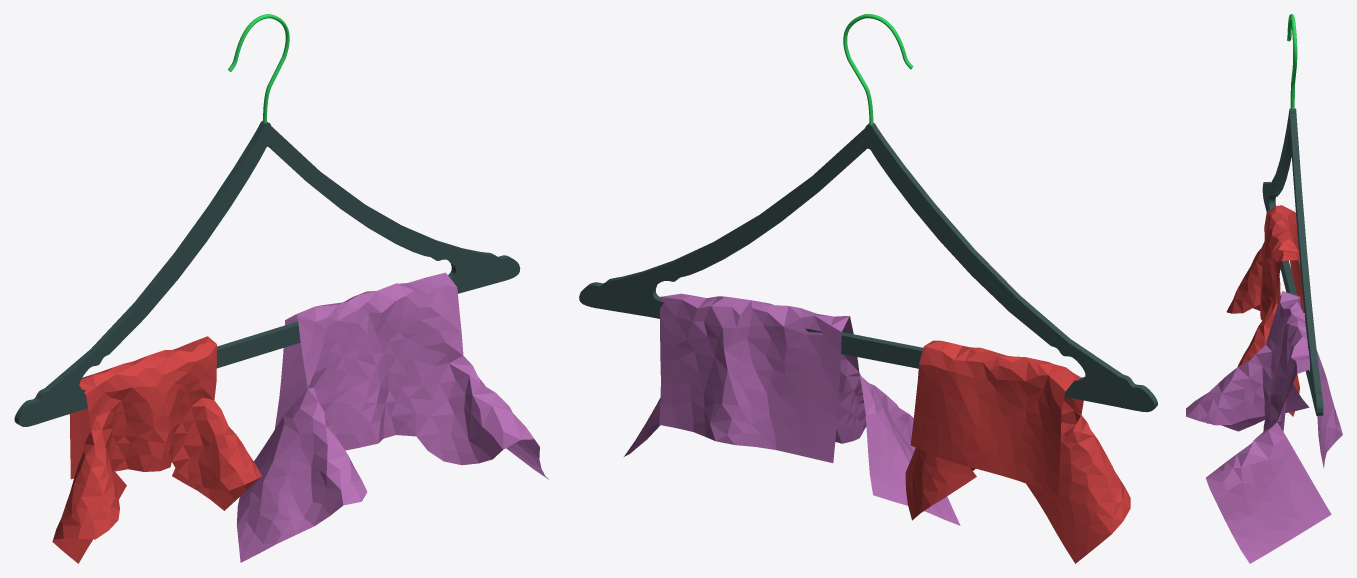
Rendered from Hanger with Clothes.FBX.
3 views of the same model, side by side, from view 1: azimuth 30°, elevation 25°; view 2: azimuth 150°, elevation 25°; view 3: azimuth 270°, elevation 25° (orthographic). The views are drawn at different scales.
Parts seen in each view (by area): view 1: Line034; view 2: Line034; view 3: Line034.
Boxes of the visible parts, box(x1,y1,x2,y2) form: Line034: box(14, 14, 548, 563); Line034: box(579, 14, 1157, 563); Line034: box(1186, 14, 1342, 563).
Size of the model in its own units: 2859 by 2618 by 849.
